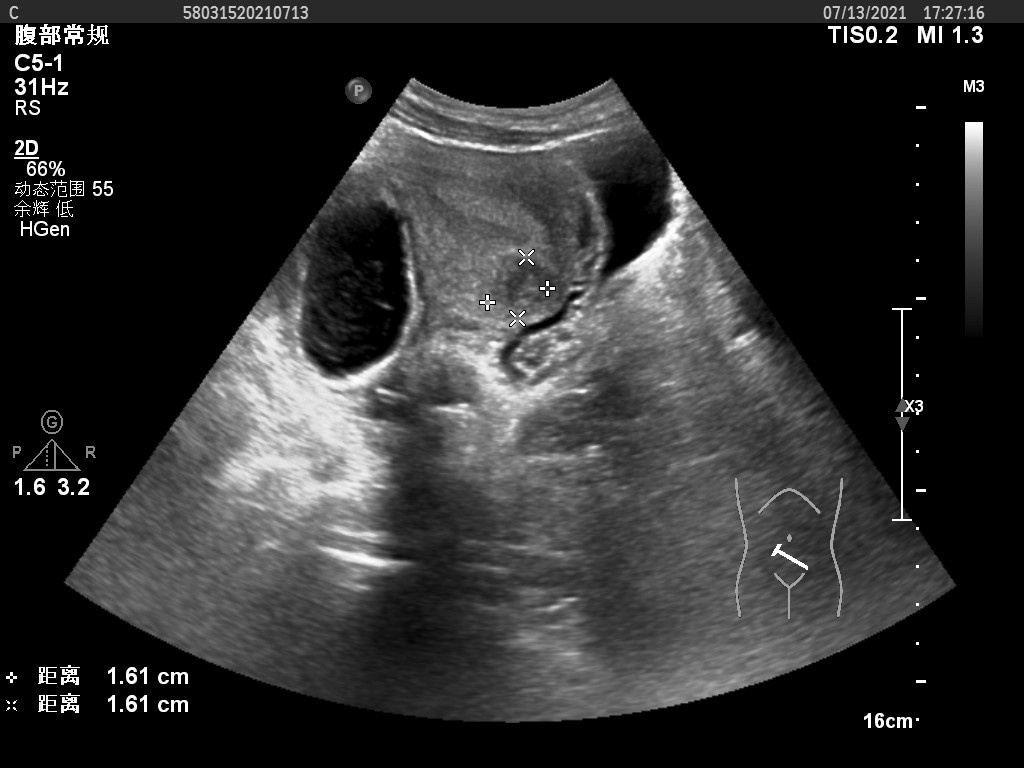肌瘤: (488, 258, 551, 321)
